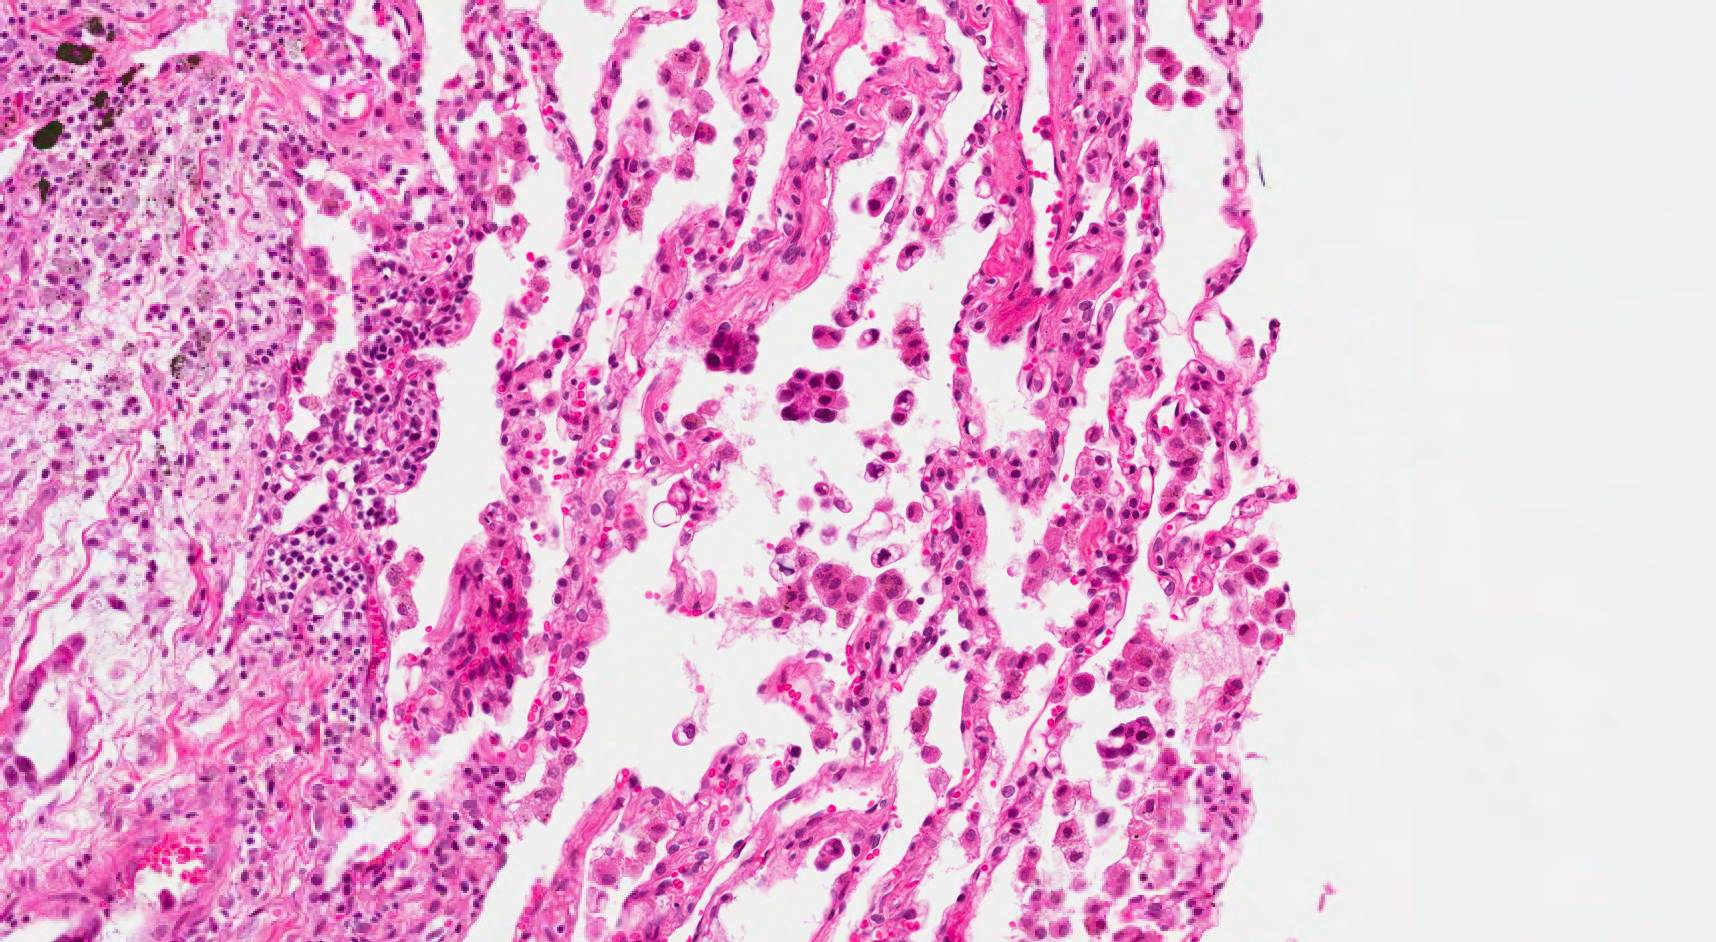stas: (773, 368, 853, 425), (1097, 714, 1157, 759), (887, 385, 919, 431)
